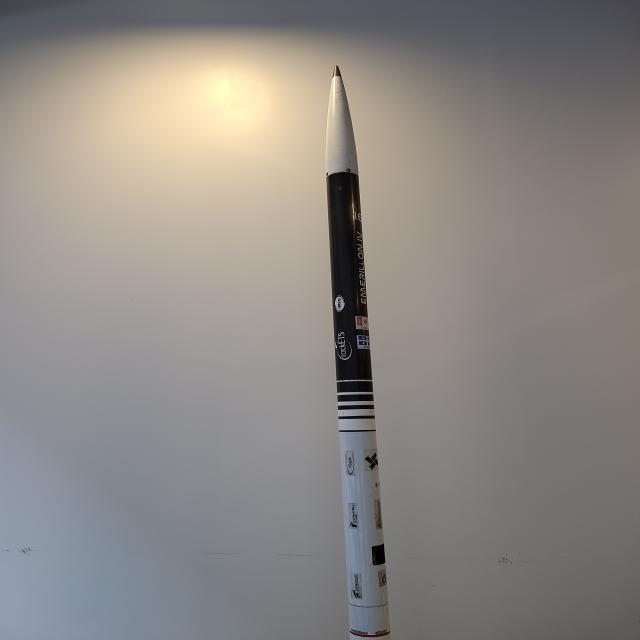Rocket: (326, 65, 391, 640)
